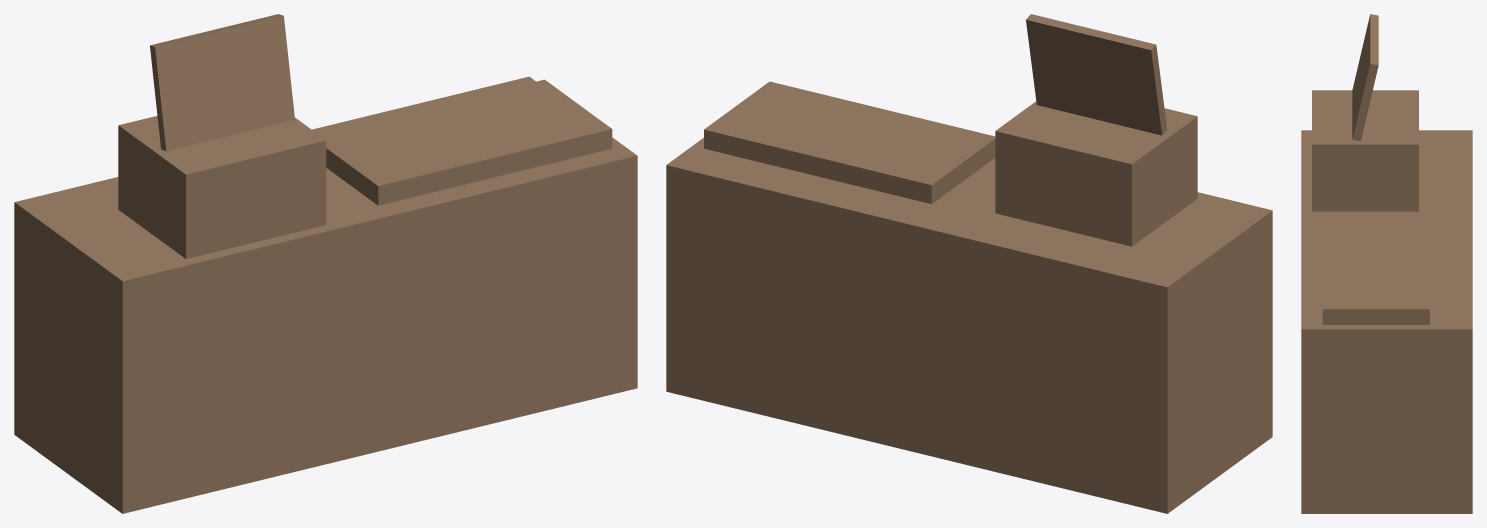
The model's file is f_checkout.glb.
3 views of the same model, side by side, from view 1: azimuth 30°, elevation 25°; view 2: azimuth 150°, elevation 25°; view 3: azimuth 270°, elevation 25° (orthographic). The views are drawn at different scales.
Visible parts, largest first — view 1: f_checkout; view 2: f_checkout; view 3: f_checkout.
Boxes of the visible parts, <box> form: f_checkout: <box>14,14,637,513</box>; f_checkout: <box>666,14,1272,513</box>; f_checkout: <box>1301,14,1472,513</box>.
Bounding box in the file's own units: 2.2 × 1.7 × 0.8.
